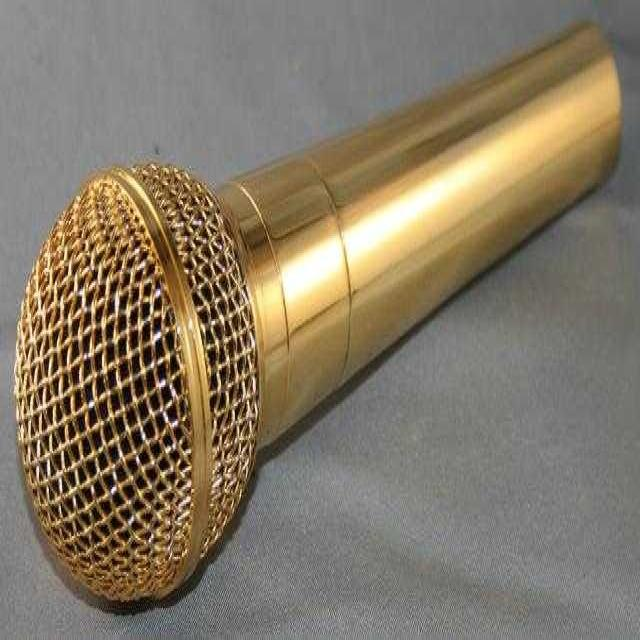microphone: (14, 31, 606, 604)
